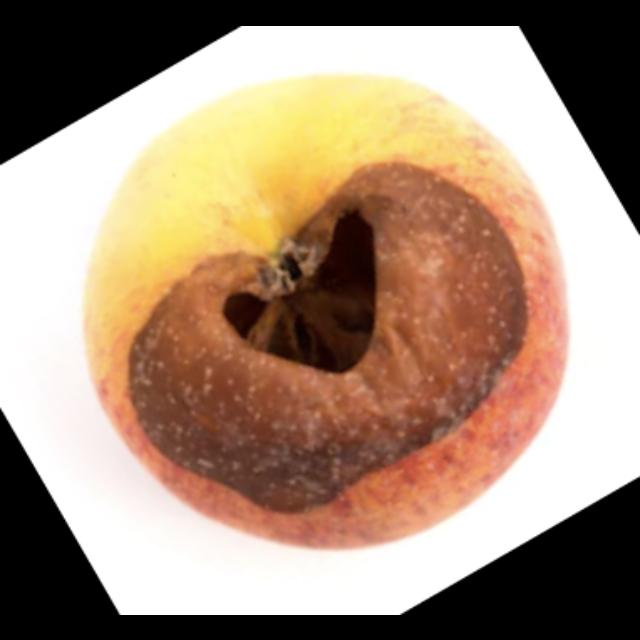Apel Segar: (87, 69, 531, 291)
Apel Tidak Segar: (96, 140, 543, 528)
